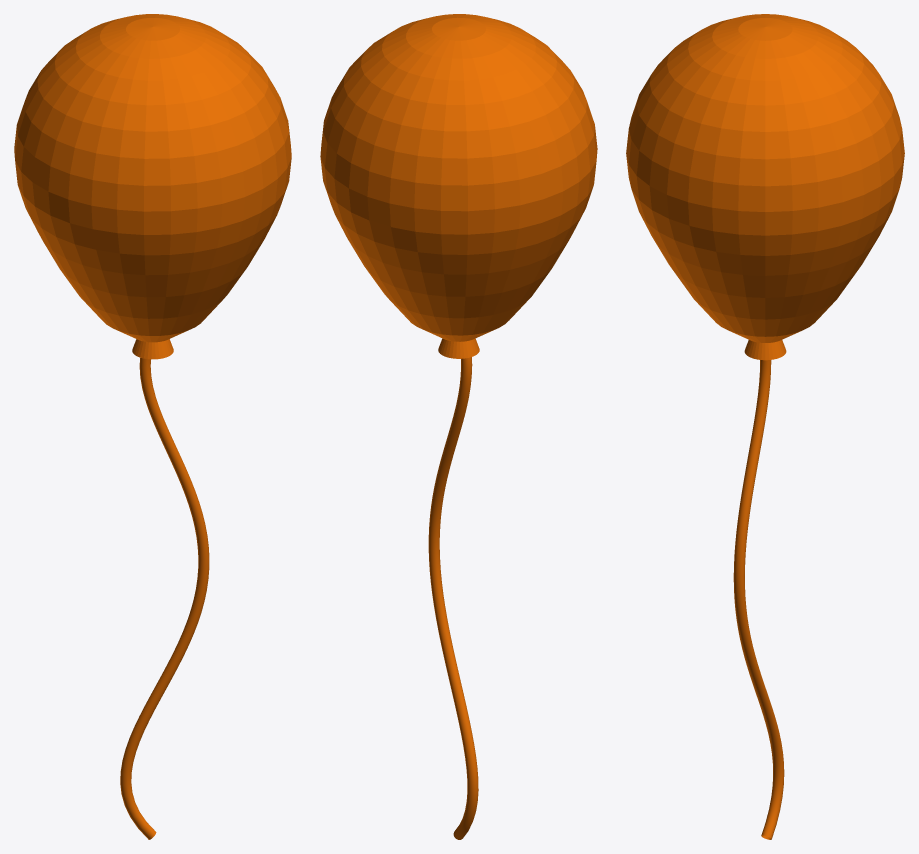
The model's file is BalloonModelOrange.gltf.
3 renders of one model, left to right at view 1: azimuth 30°, elevation 25°; view 2: azimuth 150°, elevation 25°; view 3: azimuth 270°, elevation 25°, orthographic.
Visible parts, largest first — view 1: BalloonObject; view 2: BalloonObject; view 3: BalloonObject.
Boxes of the visible parts, <box> form: BalloonObject: <box>14,14,291,839</box>; BalloonObject: <box>320,14,597,839</box>; BalloonObject: <box>626,14,904,839</box>.
Bounding box in the file's own units: 2 × 6.45 × 2.
